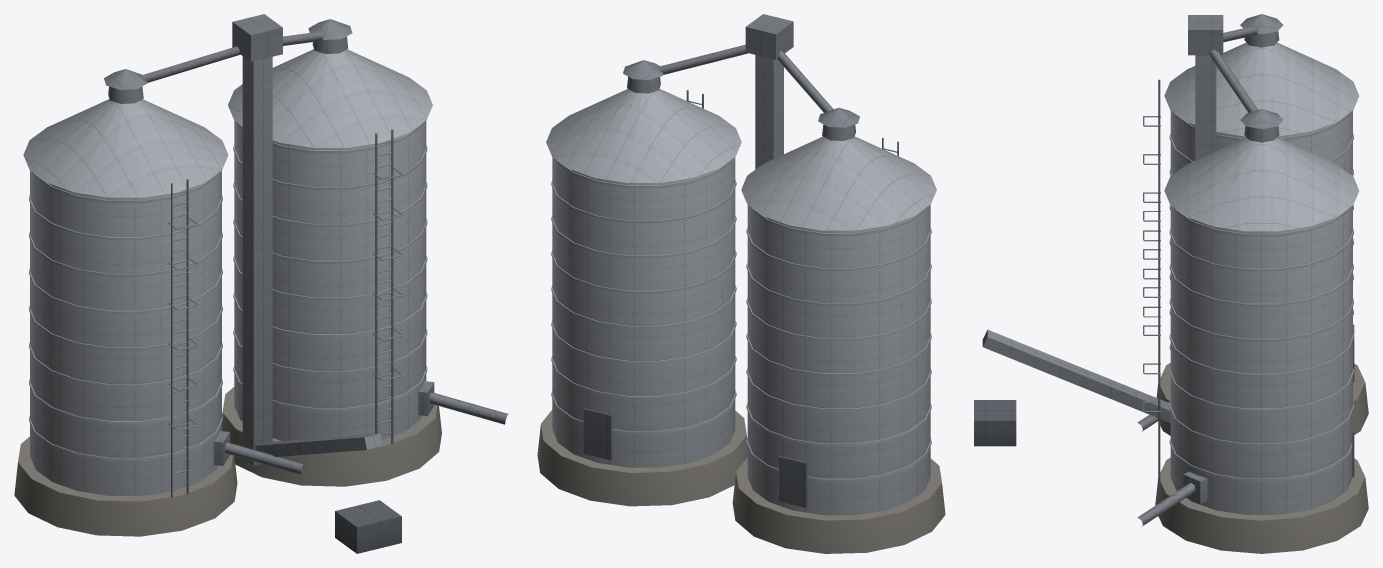
The model's file is silo_par.glb.
The picture shows the model from 3 angles, left to right: view 1: azimuth 30°, elevation 25°; view 2: azimuth 150°, elevation 25°; view 3: azimuth 270°, elevation 25°; orthographic projection. The views are drawn at different scales.
Parts seen in each view (by area): view 1: silo_par, silo_par_liso; view 2: silo_par, silo_par_liso; view 3: silo_par, silo_par_liso.
Boxes of the visible parts, x1,y1,x2,y2 form: silo_par: (23,14,508,553); silo_par_liso: (14,122,441,536); silo_par: (546,14,936,515); silo_par_liso: (537,100,945,553); silo_par: (974,14,1359,526); silo_par_liso: (1143,112,1368,553).
Bounding box in the file's own units: 13.05 × 13.8 × 11.25.
2 materials, 1 textured.
